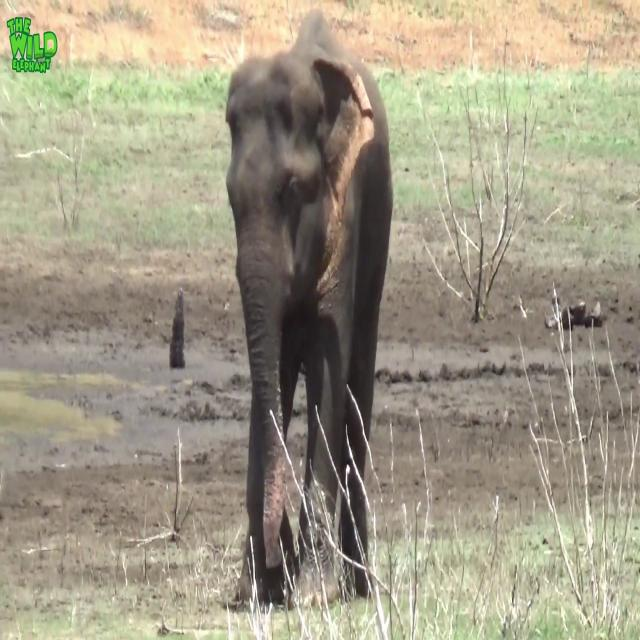Elephant: (224, 8, 393, 610)
